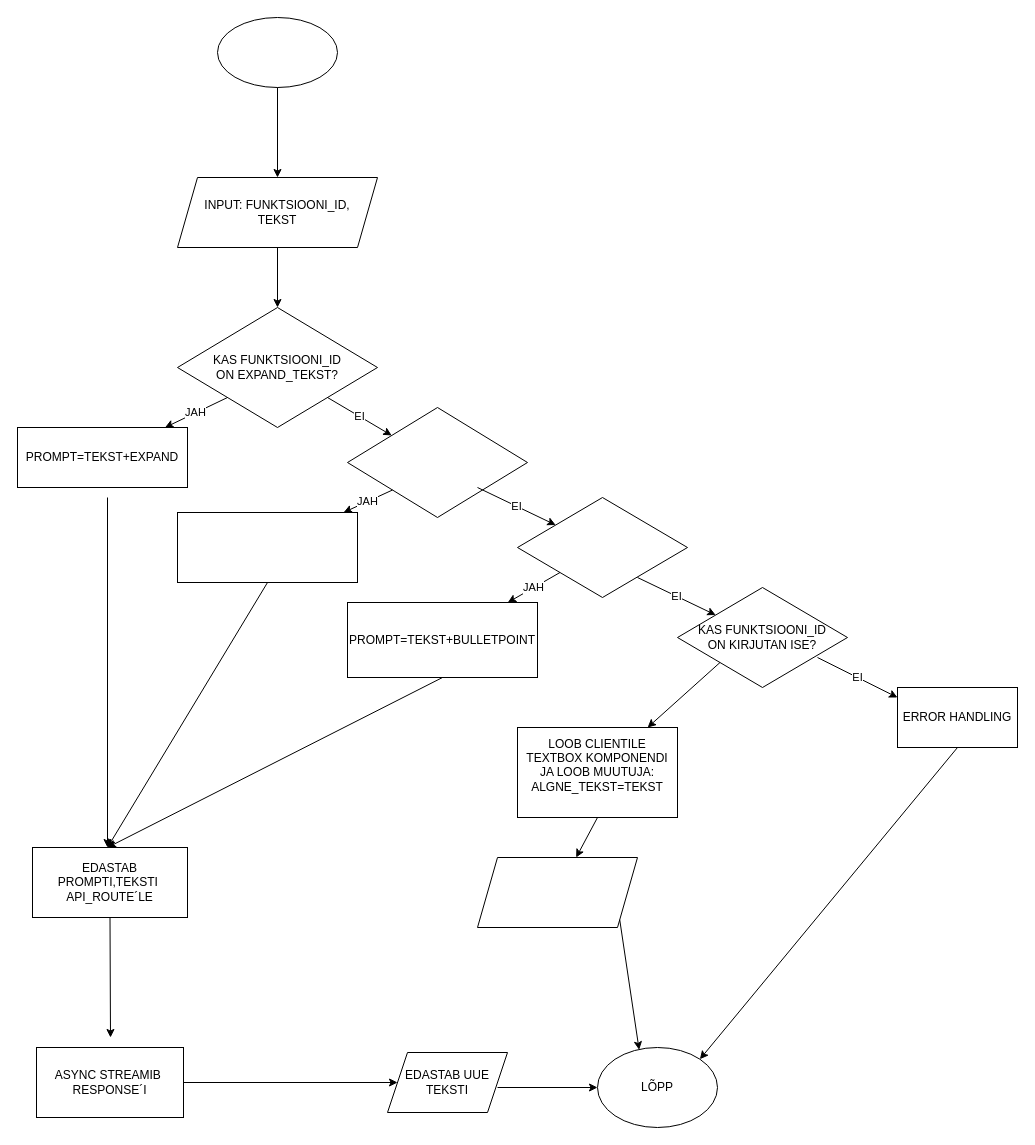
The diagram is 1035 pixels wide and 1145 high, and some of its shapes have lost their labels. The centre of each missing label's shape, as x and y in pixels:
KAS FUNKTSIOONI_ID ON BULLETPOINTS?: pixel 602 547
KAS FUNKTSIOONI_ID ON SIMPLIFY?: pixel 437 462
KASUTAJA SAAB MUUTA TEKSTI: pixel 557 892
PROMPT=TEKST+SIMPLIFY: pixel 267 547
Start: pixel 277 52
